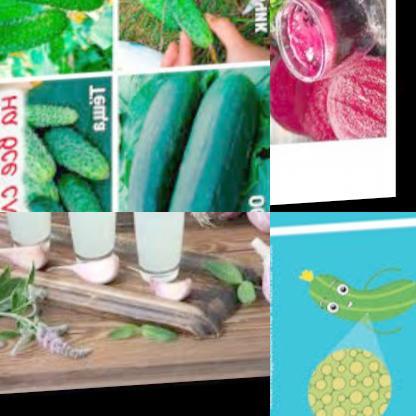beet: (270, 51, 385, 145)
cucumber: (123, 81, 247, 212), (40, 120, 120, 199), (140, 0, 257, 46), (0, 12, 79, 67), (13, 89, 90, 135), (11, 133, 62, 190), (0, 0, 111, 25), (50, 169, 112, 212)
garlic: (62, 245, 121, 294), (0, 232, 54, 281), (151, 271, 206, 312), (249, 235, 270, 327), (187, 212, 268, 232)
